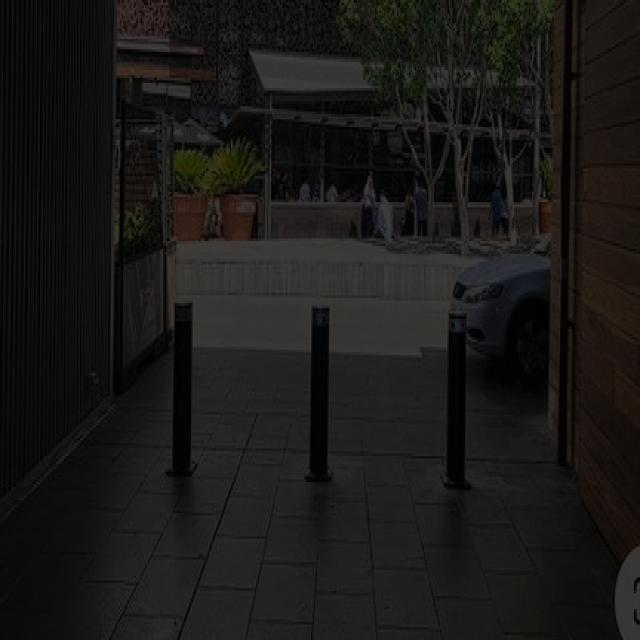obstacle: (168, 291, 197, 476), (308, 298, 333, 481), (444, 300, 468, 480)
